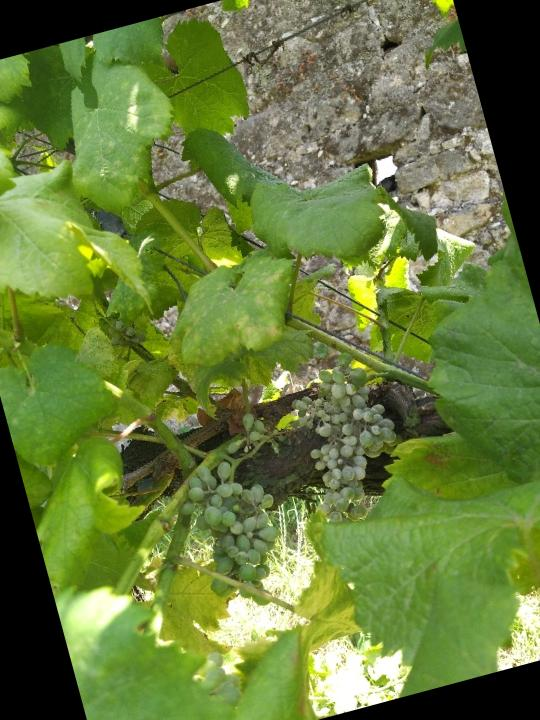grape: (283, 355, 420, 527), (167, 448, 301, 623)
